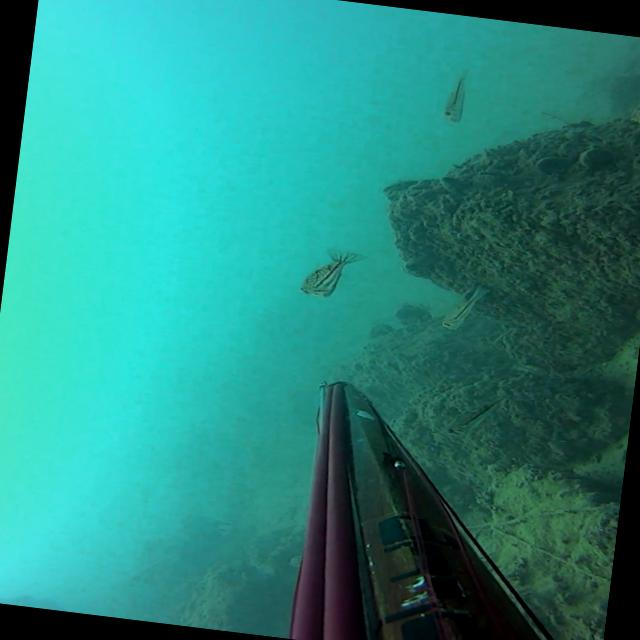Balon Baligi: (298, 244, 368, 302), (443, 388, 504, 441), (440, 282, 488, 334), (442, 71, 468, 123), (628, 95, 640, 125)
